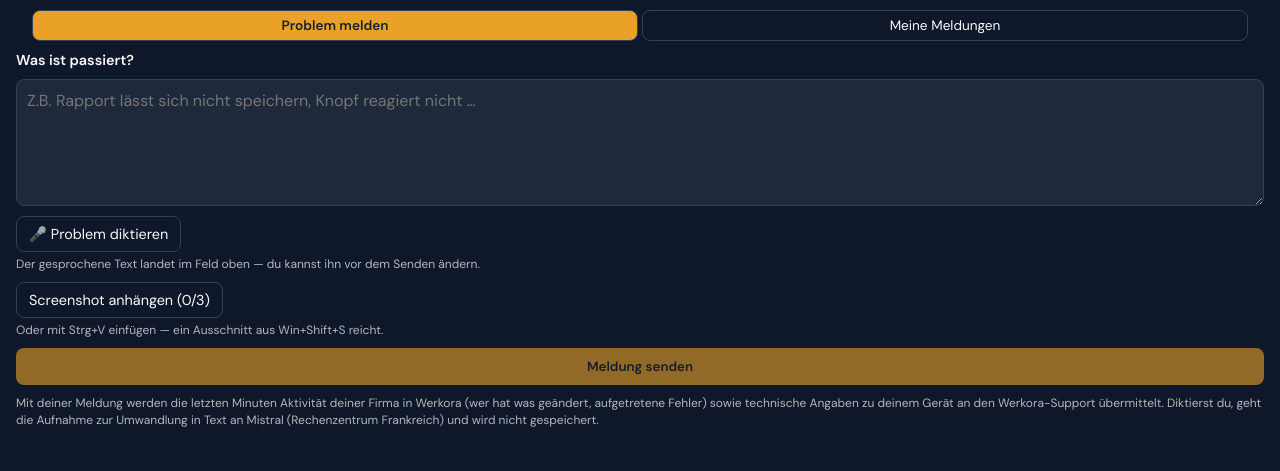
Test case: SupportForm › übersetzt Server-Fehlercodes in Klartext
Step 1. Replace the text in the text box labelled "Was ist passiert?" with "x" → {"x": 640, "y": 142}, box [16,79,1264,206]
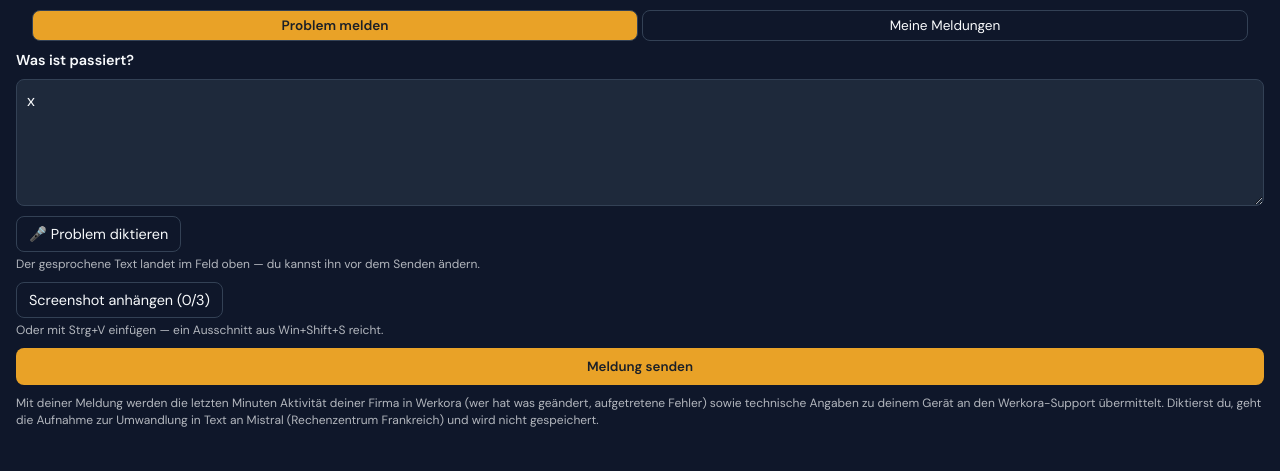
Step 2. Click the button "Meldung senden" → {"x": 640, "y": 366}, box [16,348,1264,385]
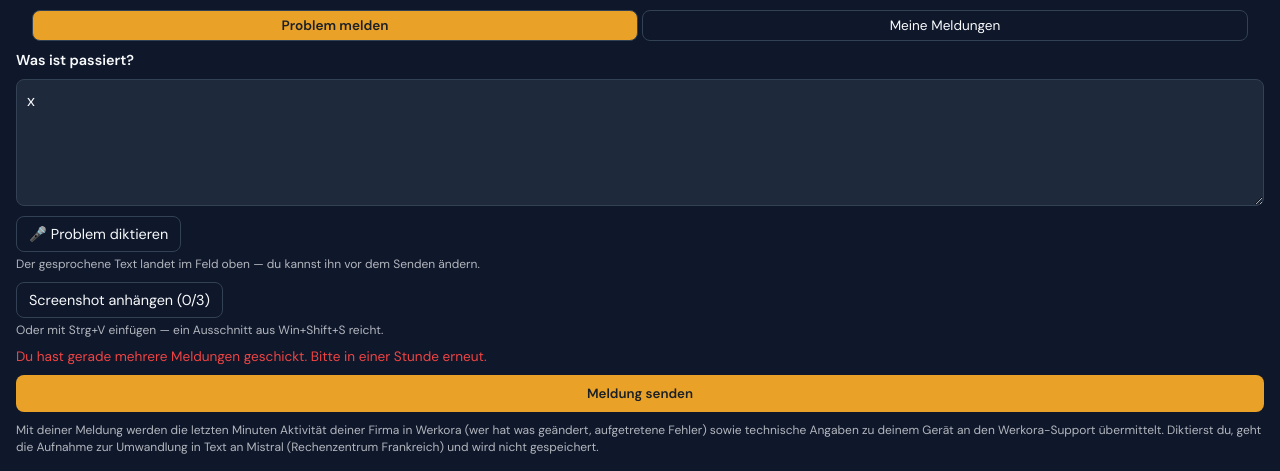
Check: the message shows "mehrere Meldungen", box [16,348,487,365]
